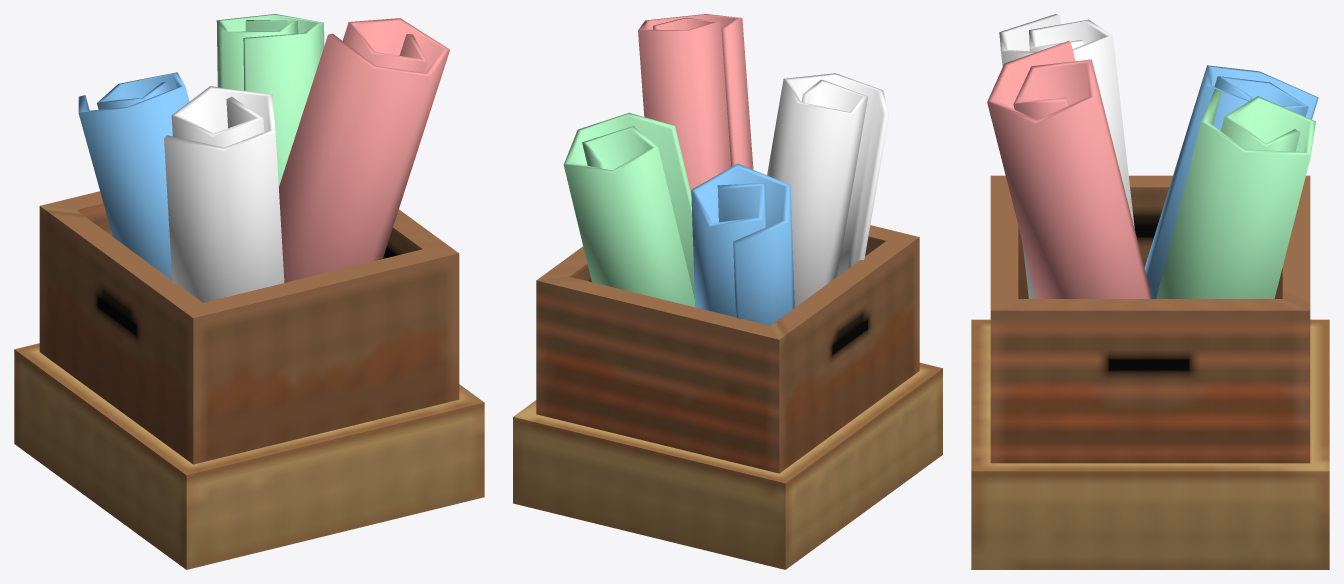
Rendered from office-box-papers.fbx.
The picture shows the model from 3 angles, left to right: view 1: azimuth 30°, elevation 25°; view 2: azimuth 150°, elevation 25°; view 3: azimuth 270°, elevation 25°; orthographic projection. The views are drawn at different scales.
Visible parts, largest first — view 1: Cube.009; view 2: Cube.009; view 3: Cube.009.
Boxes of the visible parts, box(x1,y1,x2,y2) form: Cube.009: box(14, 14, 484, 569); Cube.009: box(513, 14, 942, 569); Cube.009: box(971, 14, 1329, 569).
Size of the model in its own units: 100 by 146 by 100.
Materials: 1 (1 with a texture image).
